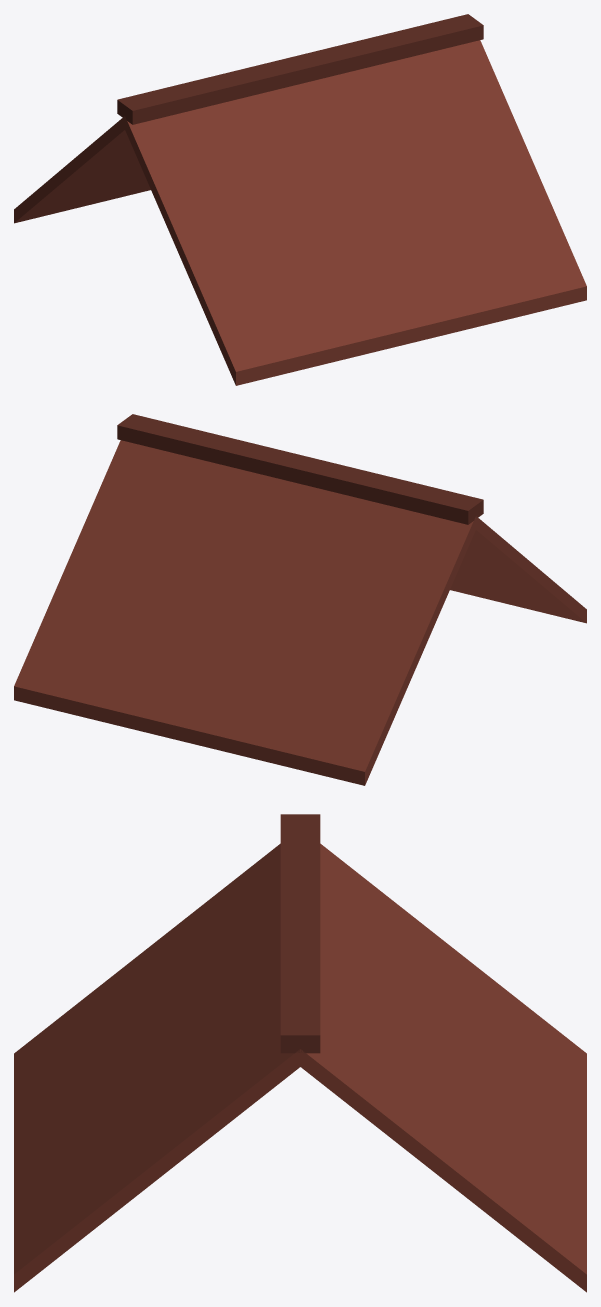
The model's file is roof_ridge_2x2.glb.
The picture shows the model from 3 angles, top to bottom: view 1: azimuth 30°, elevation 25°; view 2: azimuth 150°, elevation 25°; view 3: azimuth 270°, elevation 25°; orthographic projection. The views are drawn at different scales.
Visible parts, largest first — view 1: roof_ridge_2x2; view 2: roof_ridge_2x2; view 3: roof_ridge_2x2.
Part boxes in pixels (x1,y1,x2,y2): roof_ridge_2x2: [14, 14, 586, 385]; roof_ridge_2x2: [14, 414, 586, 785]; roof_ridge_2x2: [14, 814, 586, 1292].
Size of the model in its own units: 2.1 by 1.14 by 2.3.
